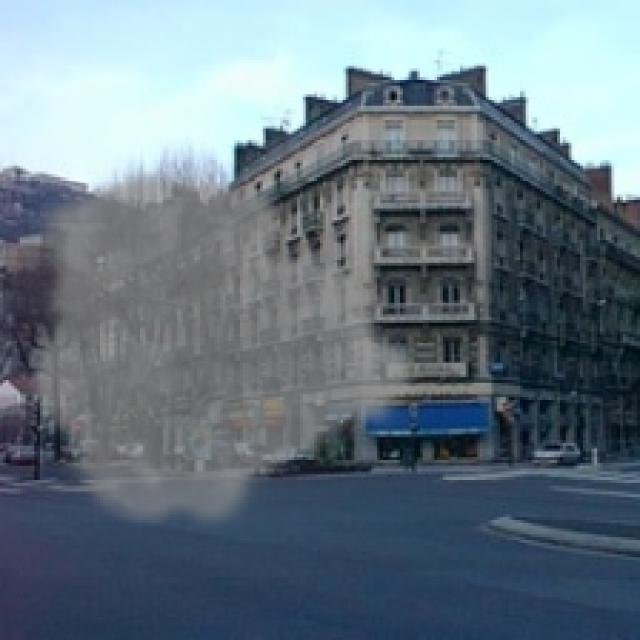smoke: (26, 166, 426, 537)
